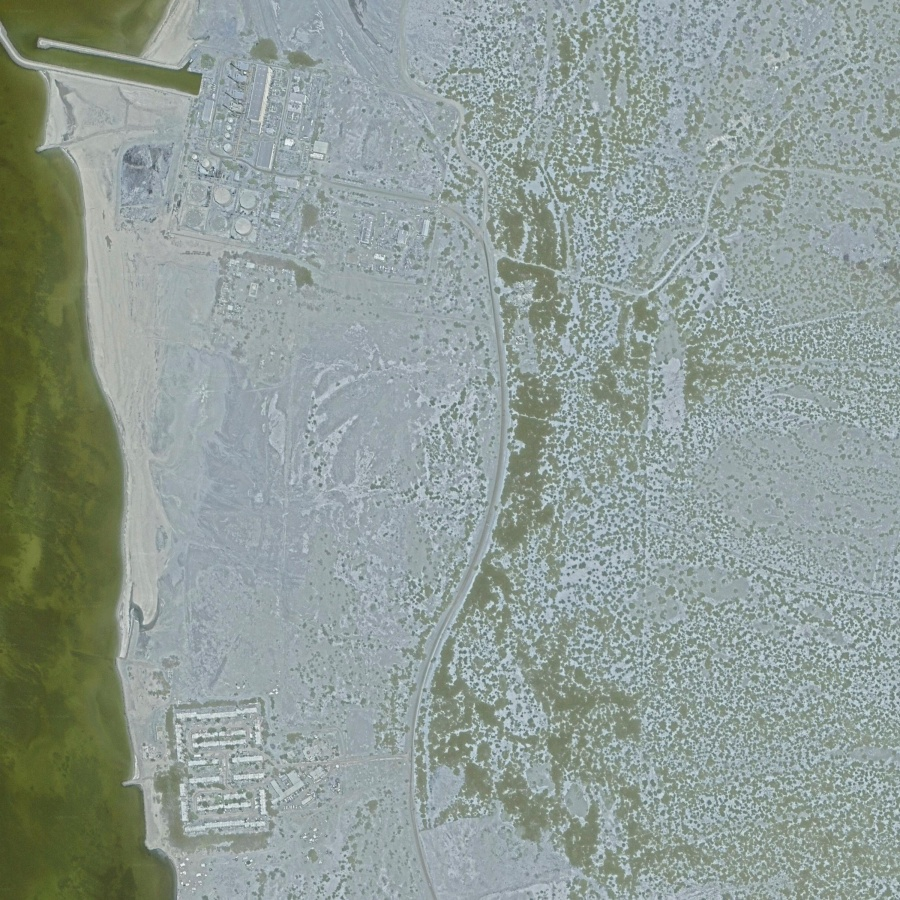PowerPlant: (109, 50, 337, 253)
